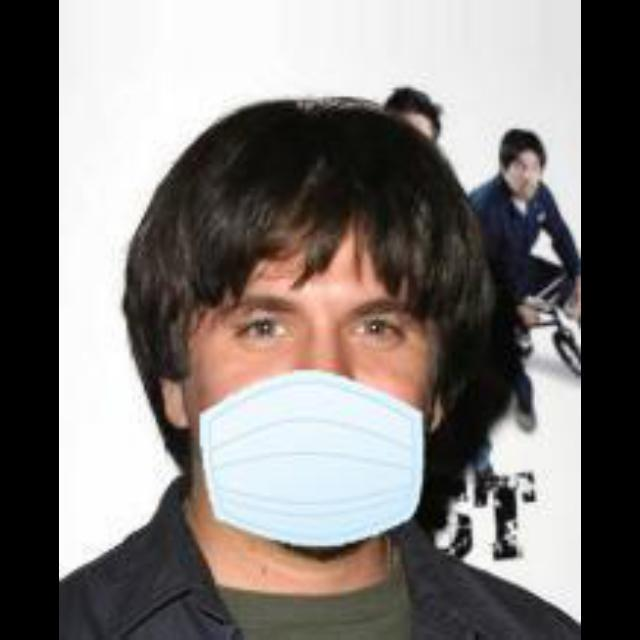suspicion: (120, 94, 488, 560)
